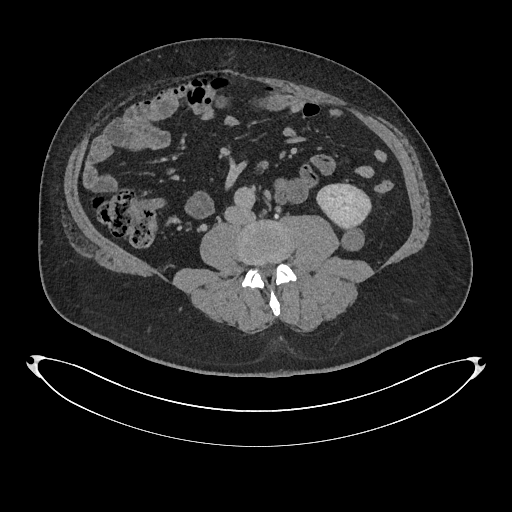Lesion: (337, 221, 367, 252)
